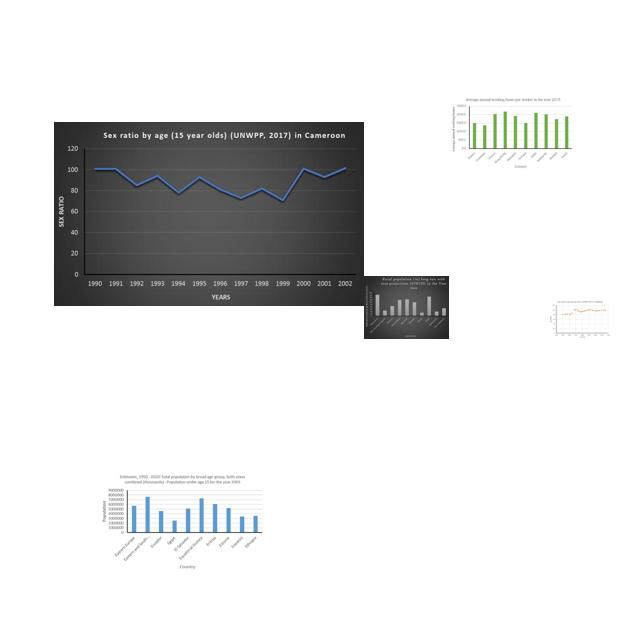Graph: (54, 122, 364, 306), (99, 472, 265, 571), (451, 96, 574, 169), (364, 276, 449, 339), (549, 300, 611, 338)
